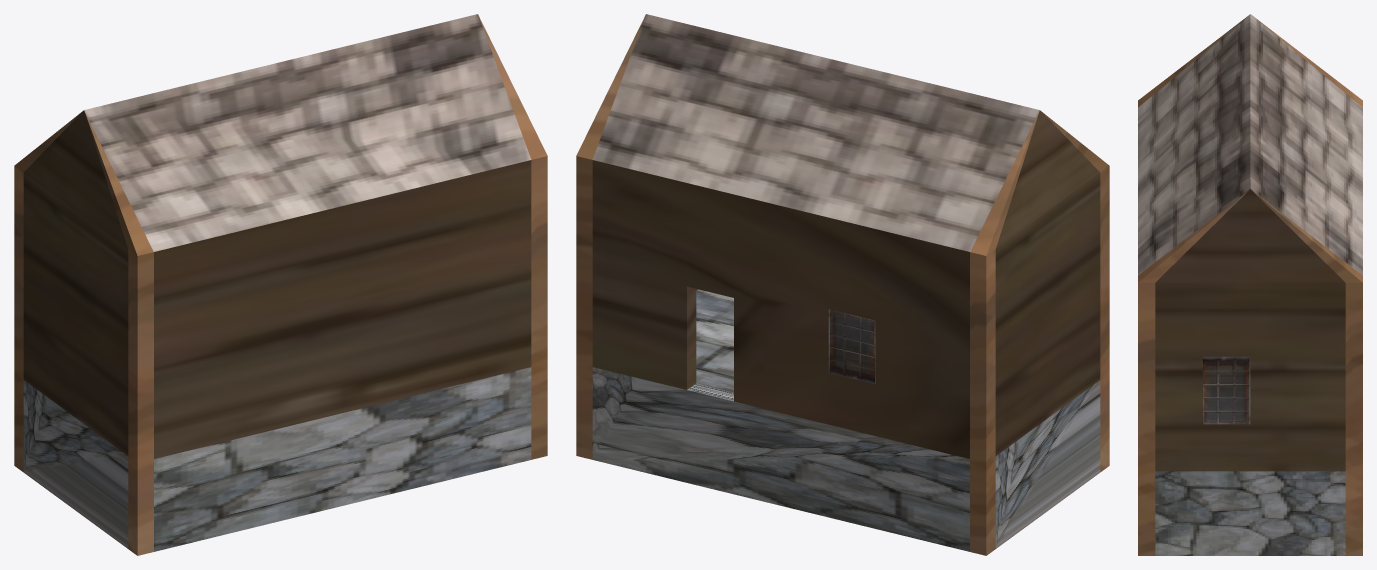
The model's file is HouseOne.fbx.
3 renders of one model, left to right at view 1: azimuth 30°, elevation 25°; view 2: azimuth 150°, elevation 25°; view 3: azimuth 270°, elevation 25°, orthographic. The views are drawn at different scales.
Visible parts, largest first — view 1: Cube; view 2: Cube; view 3: Cube.
Part boxes in pixels (x1,y1,x2,y2): Cube: [14, 14, 547, 555]; Cube: [576, 14, 1109, 555]; Cube: [1138, 14, 1362, 555].
Size of the model in its own units: 2520 by 2341 by 1313.
